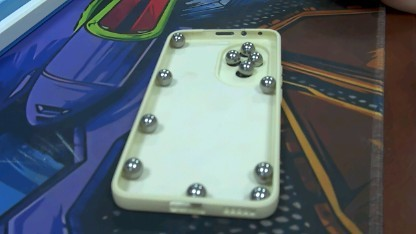ironball: (117, 152, 144, 181), (135, 111, 160, 134), (251, 159, 274, 183), (246, 182, 271, 204), (185, 179, 205, 204), (154, 66, 175, 86), (260, 70, 275, 92), (167, 31, 185, 49), (246, 49, 265, 64), (236, 61, 249, 76), (225, 46, 236, 63), (240, 41, 252, 55)
